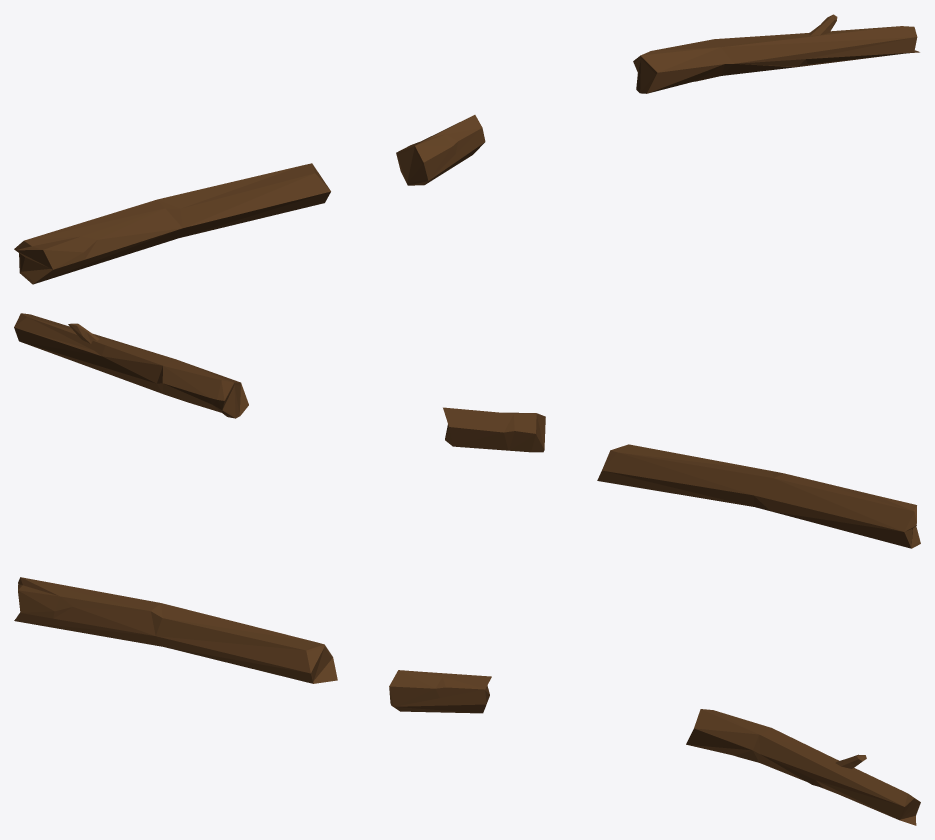
File: SM_Tree_Birch_Fallen_A.fbx
The picture shows the model from 3 angles, top to bottom: view 1: azimuth 30°, elevation 25°; view 2: azimuth 150°, elevation 25°; view 3: azimuth 330°, elevation 25°; orthographic projection.
Visible parts, largest first — view 1: tree-birch-fallen-a; view 2: tree-birch-fallen-a; view 3: tree-birch-fallen-a.
Part boxes in pixels (x1=…): tree-birch-fallen-a: x1=14, y1=14, x2=919, y2=284; tree-birch-fallen-a: x1=14, y1=313, x2=920, y2=548; tree-birch-fallen-a: x1=14, y1=577, x2=920, y2=825.
Bounding box in the file's own units: 5.49 × 0.2516 × 0.6339.
